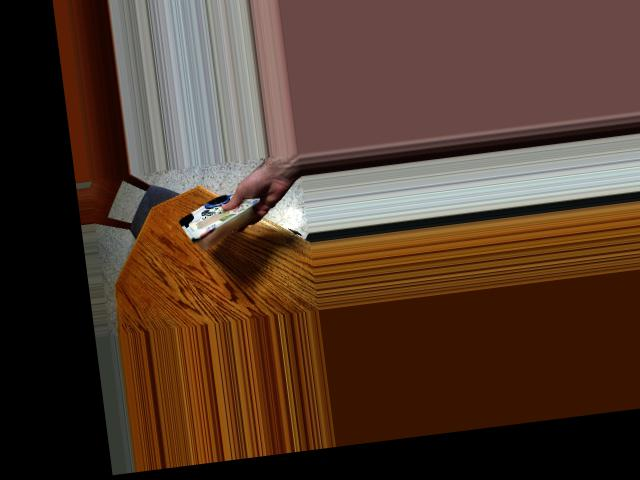cheese: (178, 179, 253, 251)
